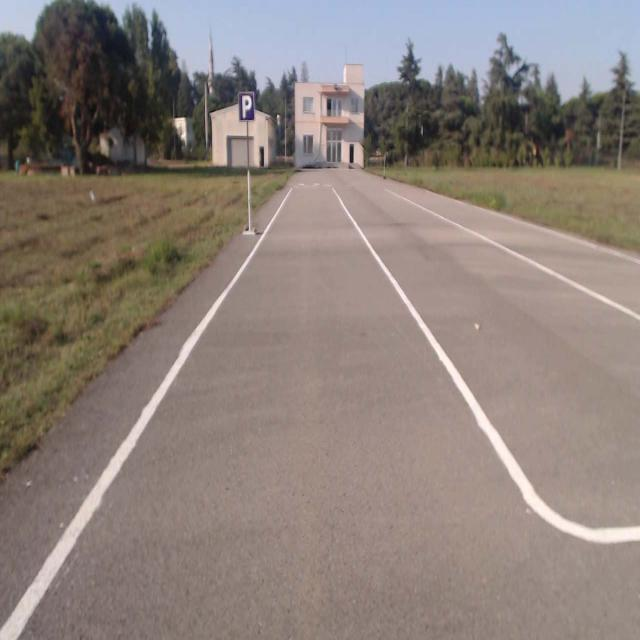park: (239, 90, 254, 122)
